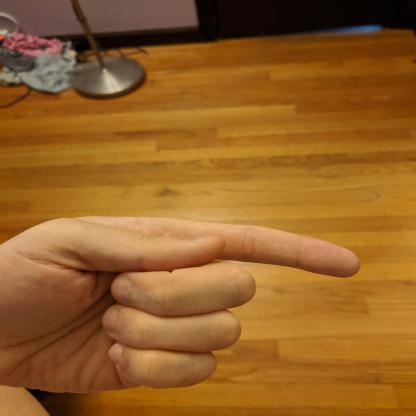G: (0, 206, 369, 400)
